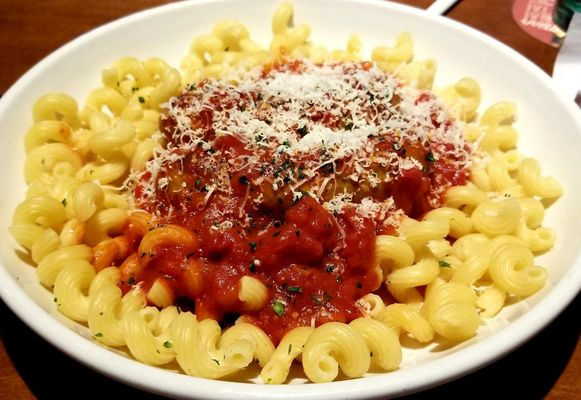sushi: (1, 0, 575, 395)
